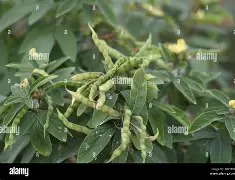crops: (0, 24, 232, 161)
